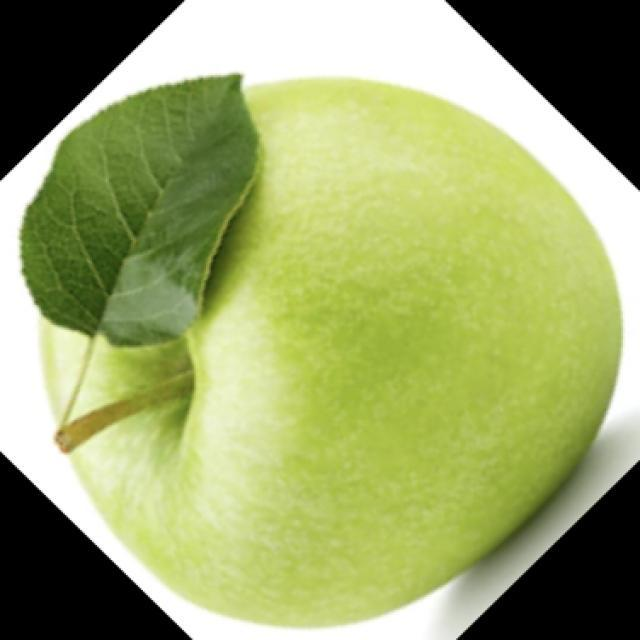Fresh Apple: (35, 68, 627, 627)
